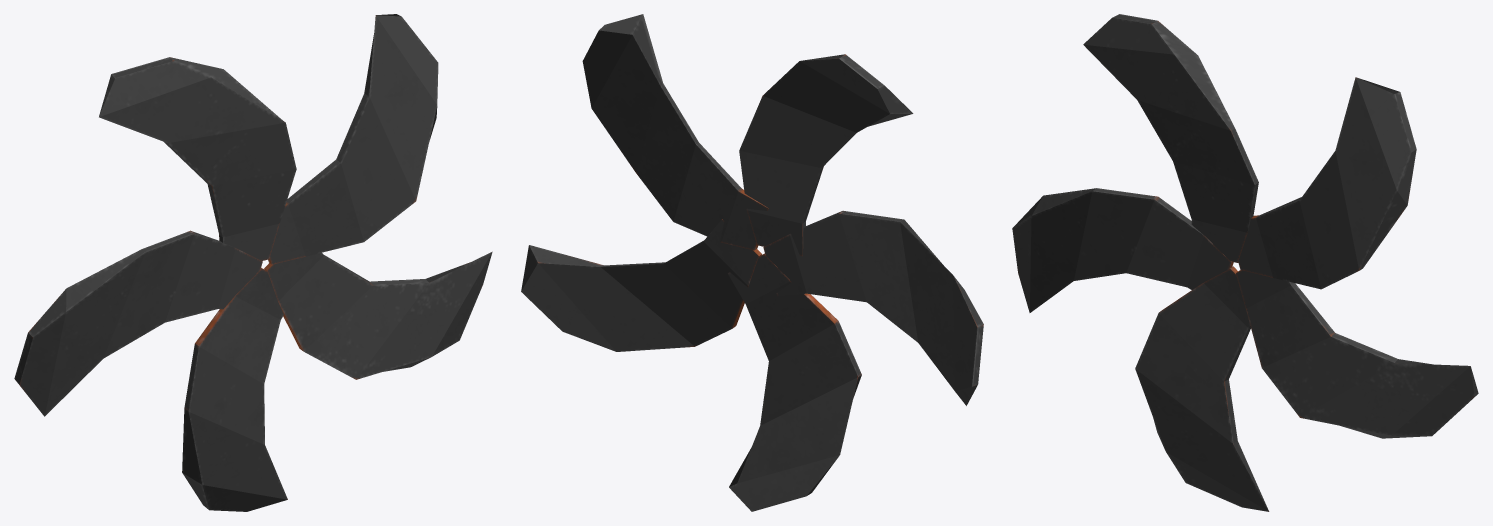
Rendered from FanBladesOnly.gltf.
The picture shows the model from 3 angles, left to right: view 1: azimuth 30°, elevation 25°; view 2: azimuth 150°, elevation 25°; view 3: azimuth 330°, elevation 25°; orthographic projection. The views are drawn at different scales.
Visible parts, largest first — view 1: Ostrza; view 2: Ostrza; view 3: Ostrza.
Boxes of the visible parts, x1,y1,x2,y2 form: Ostrza: (14, 14, 492, 511); Ostrza: (521, 14, 983, 511); Ostrza: (1012, 14, 1478, 511).
Bounding box in the file's own units: 1.64 × 1.61 × 0.1874.
Materials: 1 (1 with a texture image).
